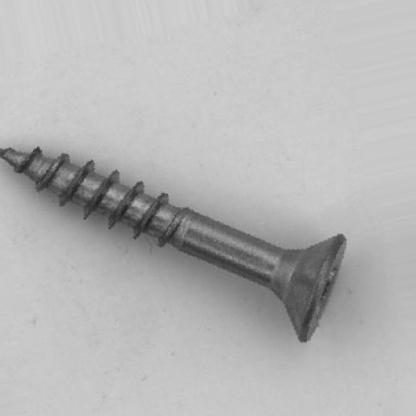metal: (0, 144, 347, 343)
